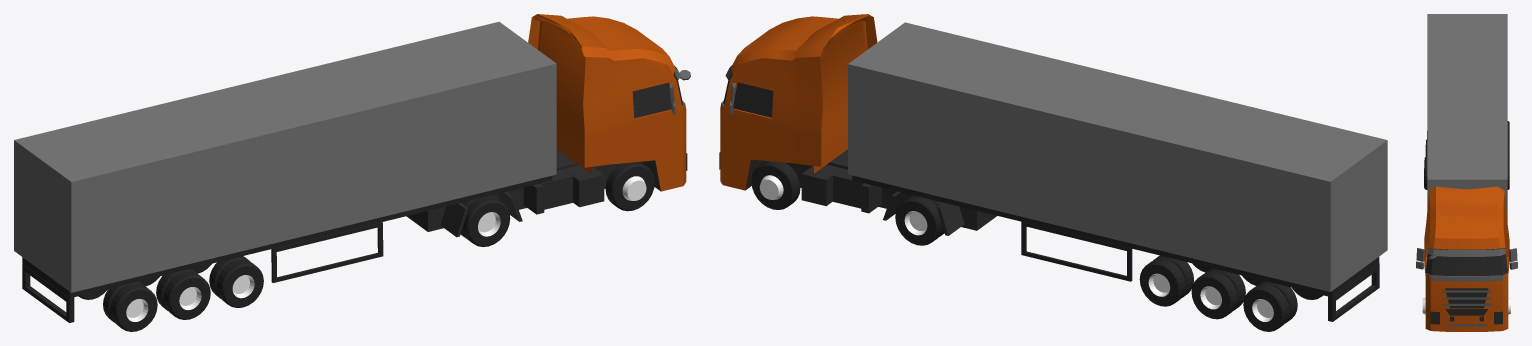
File: kache001.fbx
3 renders of one model, left to right at view 1: azimuth 30°, elevation 25°; view 2: azimuth 150°, elevation 25°; view 3: azimuth 270°, elevation 25°, orthographic. The views are drawn at different scales.
Visible parts, largest first — view 1: kache001; view 2: kache001; view 3: kache001.
Boxes of the visible parts, box(x1,y1,x2,y2) form: kache001: box(14, 14, 690, 331); kache001: box(719, 14, 1387, 331); kache001: box(1416, 14, 1517, 331).
Size of the model in its own units: 15.65 by 4.12 by 3.17.
